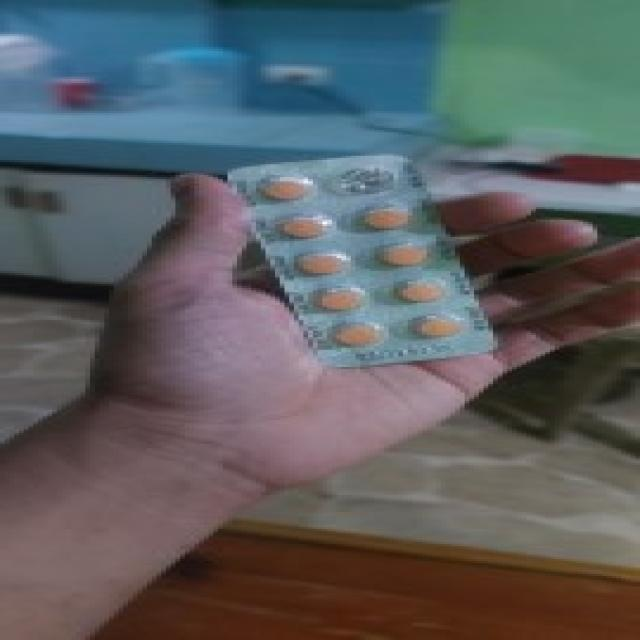Cacat: (219, 146, 507, 372)
Kemasan: (320, 163, 412, 198)
